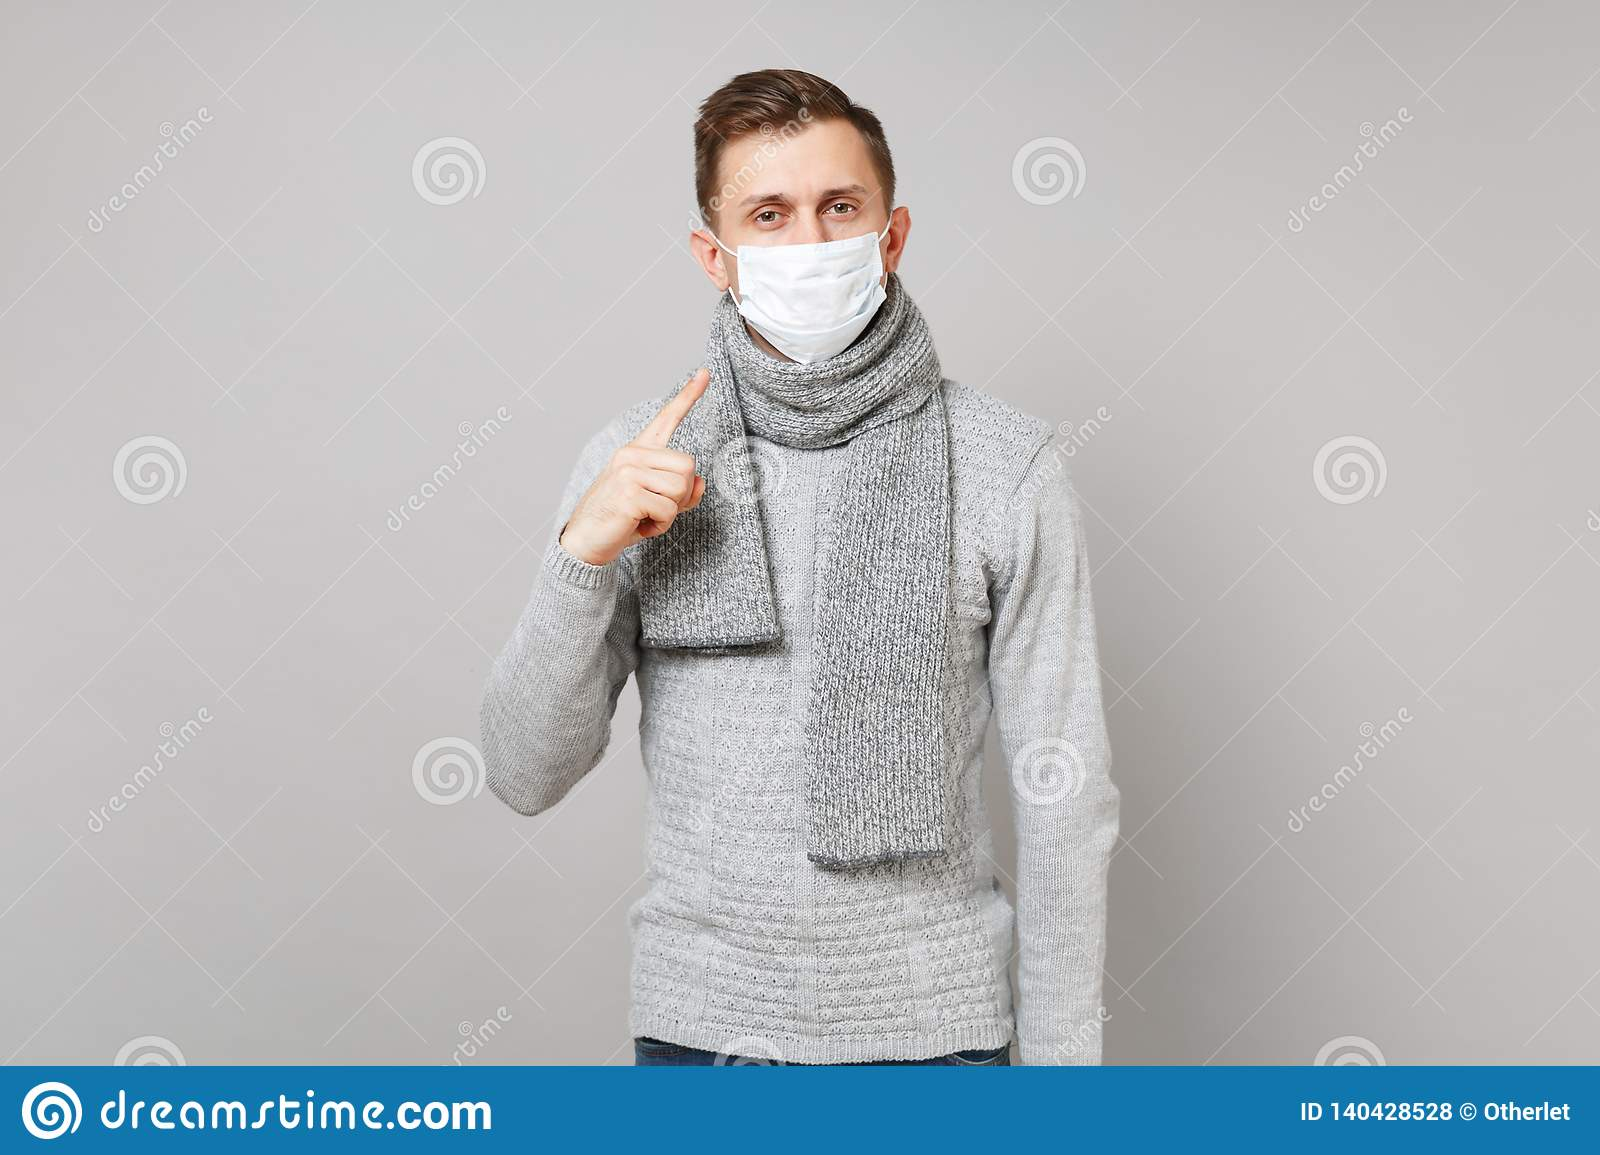mask: (730, 238, 892, 364)
